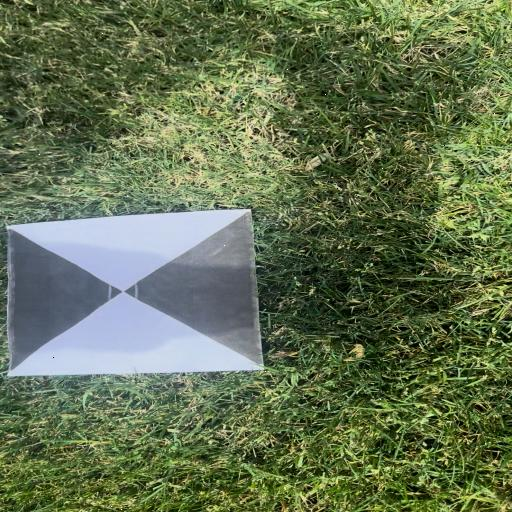target: (5, 211, 268, 375)
